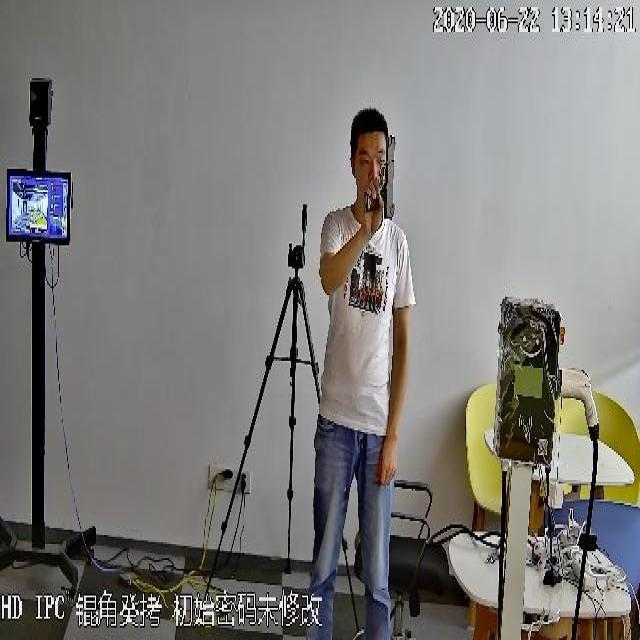pistol: (361, 124, 402, 232)
